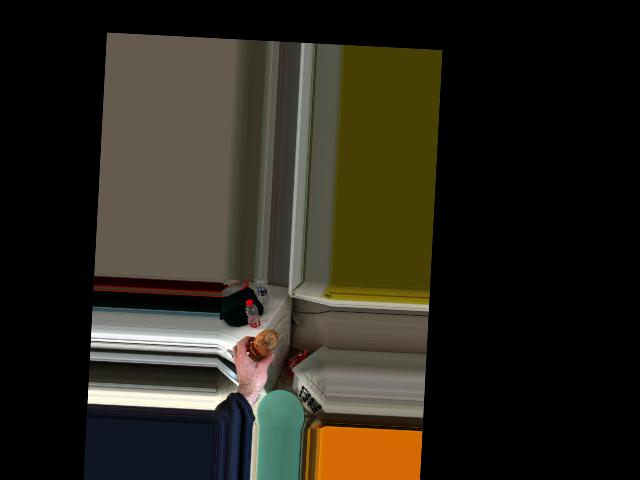sweet_potato: (249, 327, 277, 362)
